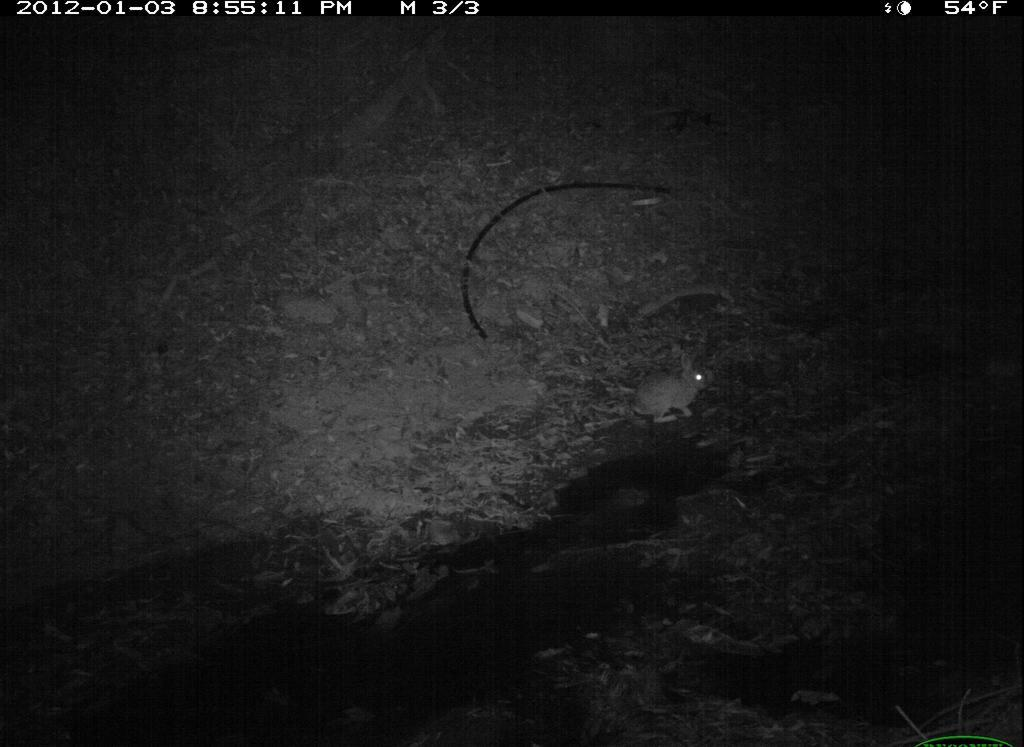rabbit: (609, 340, 725, 434)
